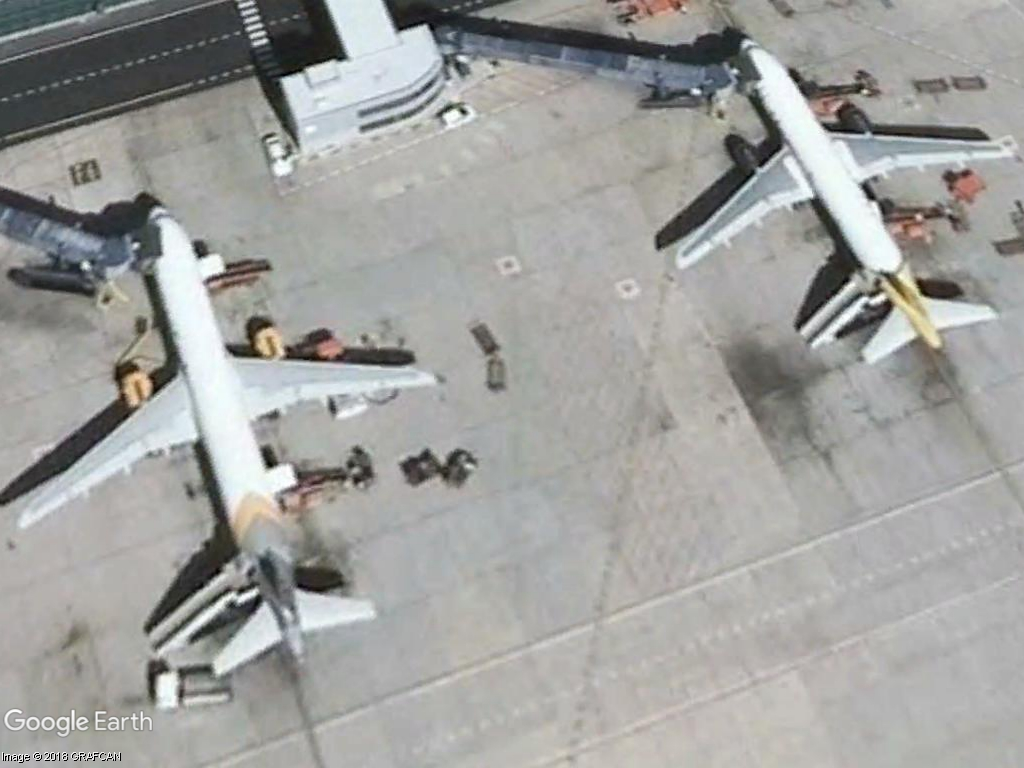airliner: (1, 202, 447, 692), (652, 35, 1014, 374)
stairtruck: (123, 561, 257, 663), (792, 274, 882, 352)
